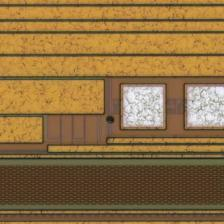PIQ PARTICLE: (105, 115, 117, 127)
